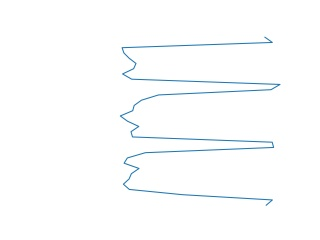majorRiverChannelBar: (118, 37, 283, 205)
